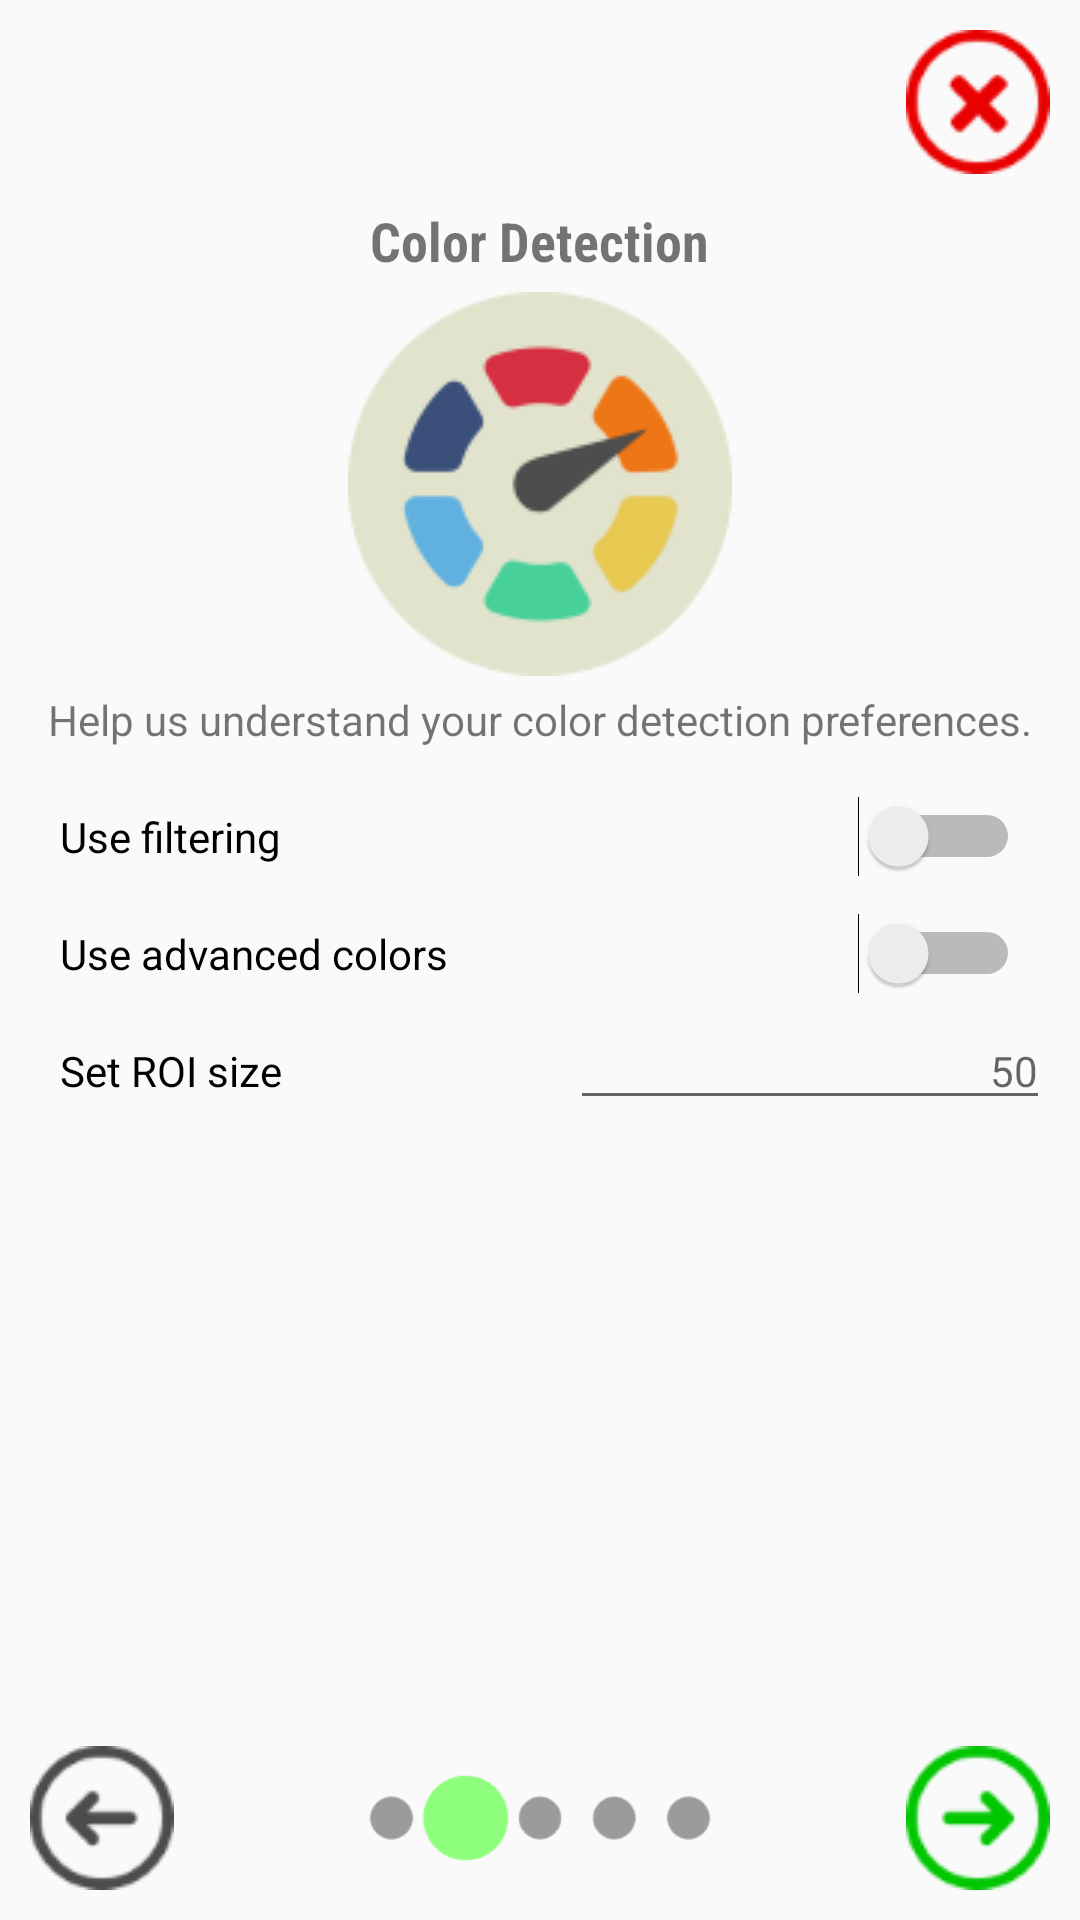

Where icons sit on this 1080 × 1920 app screen, as bbox(x1, y1, x2, y2):
next: bbox(906, 1746, 1050, 1890)
prev: bbox(30, 1746, 174, 1890)
skip: bbox(906, 30, 1050, 174)
